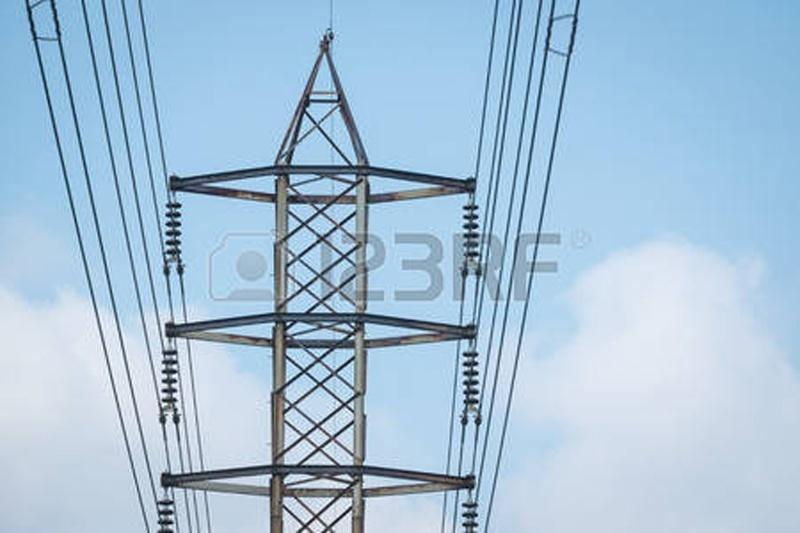power_tower: (147, 23, 508, 527)
